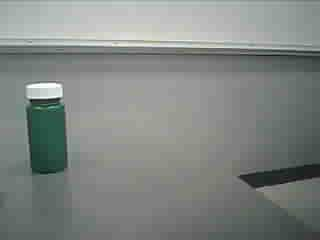Bottle C: (14, 77, 80, 187)
